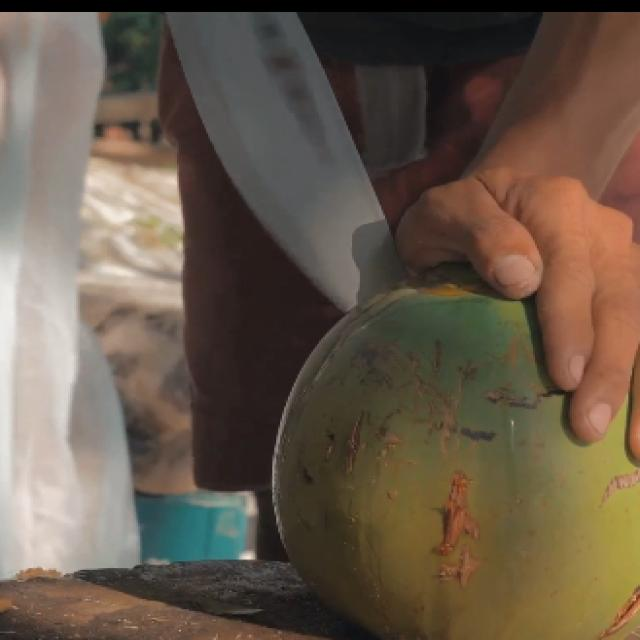knife: (161, 12, 399, 311)
